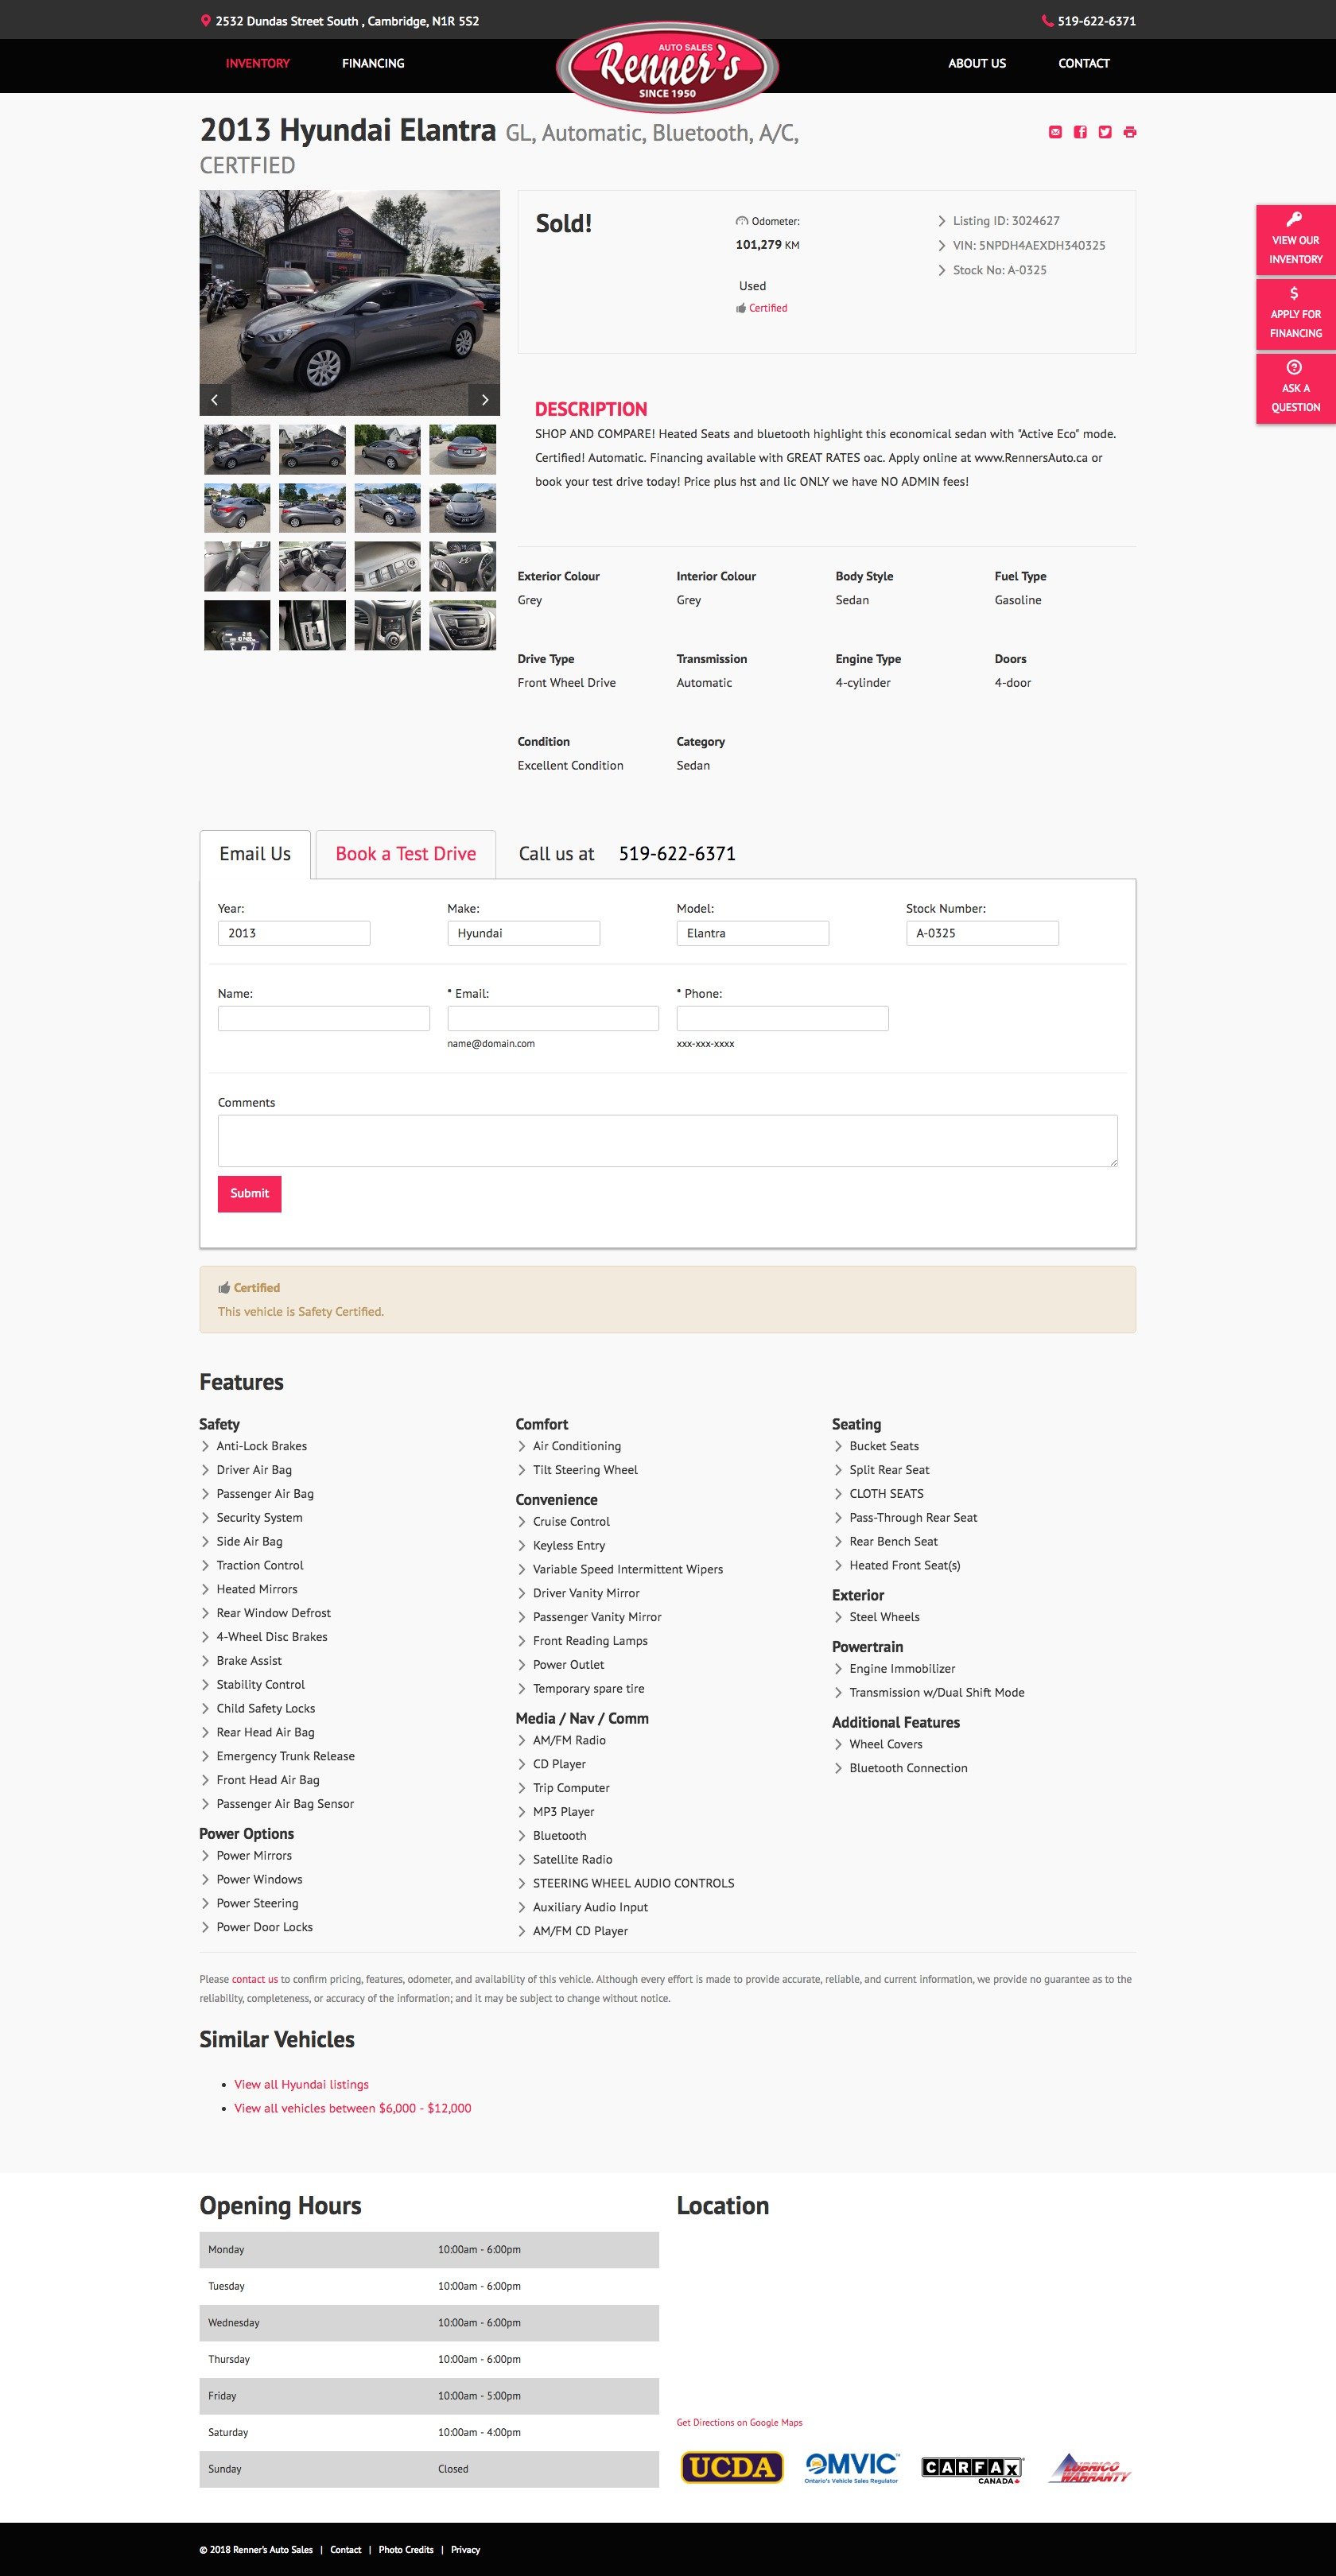car: (469, 383, 501, 417)
